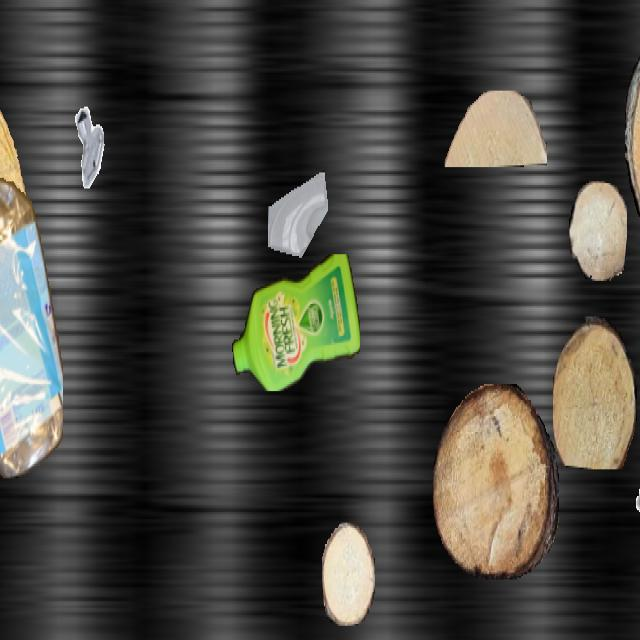glass: (268, 171, 330, 281)
metal: (68, 101, 116, 187), (626, 444, 640, 537)
plastic: (0, 144, 62, 478), (232, 255, 360, 390)
wood: (433, 384, 559, 580), (553, 316, 637, 469), (444, 91, 546, 165), (569, 181, 627, 281), (322, 522, 374, 626), (0, 62, 37, 204), (625, 2, 640, 268)
